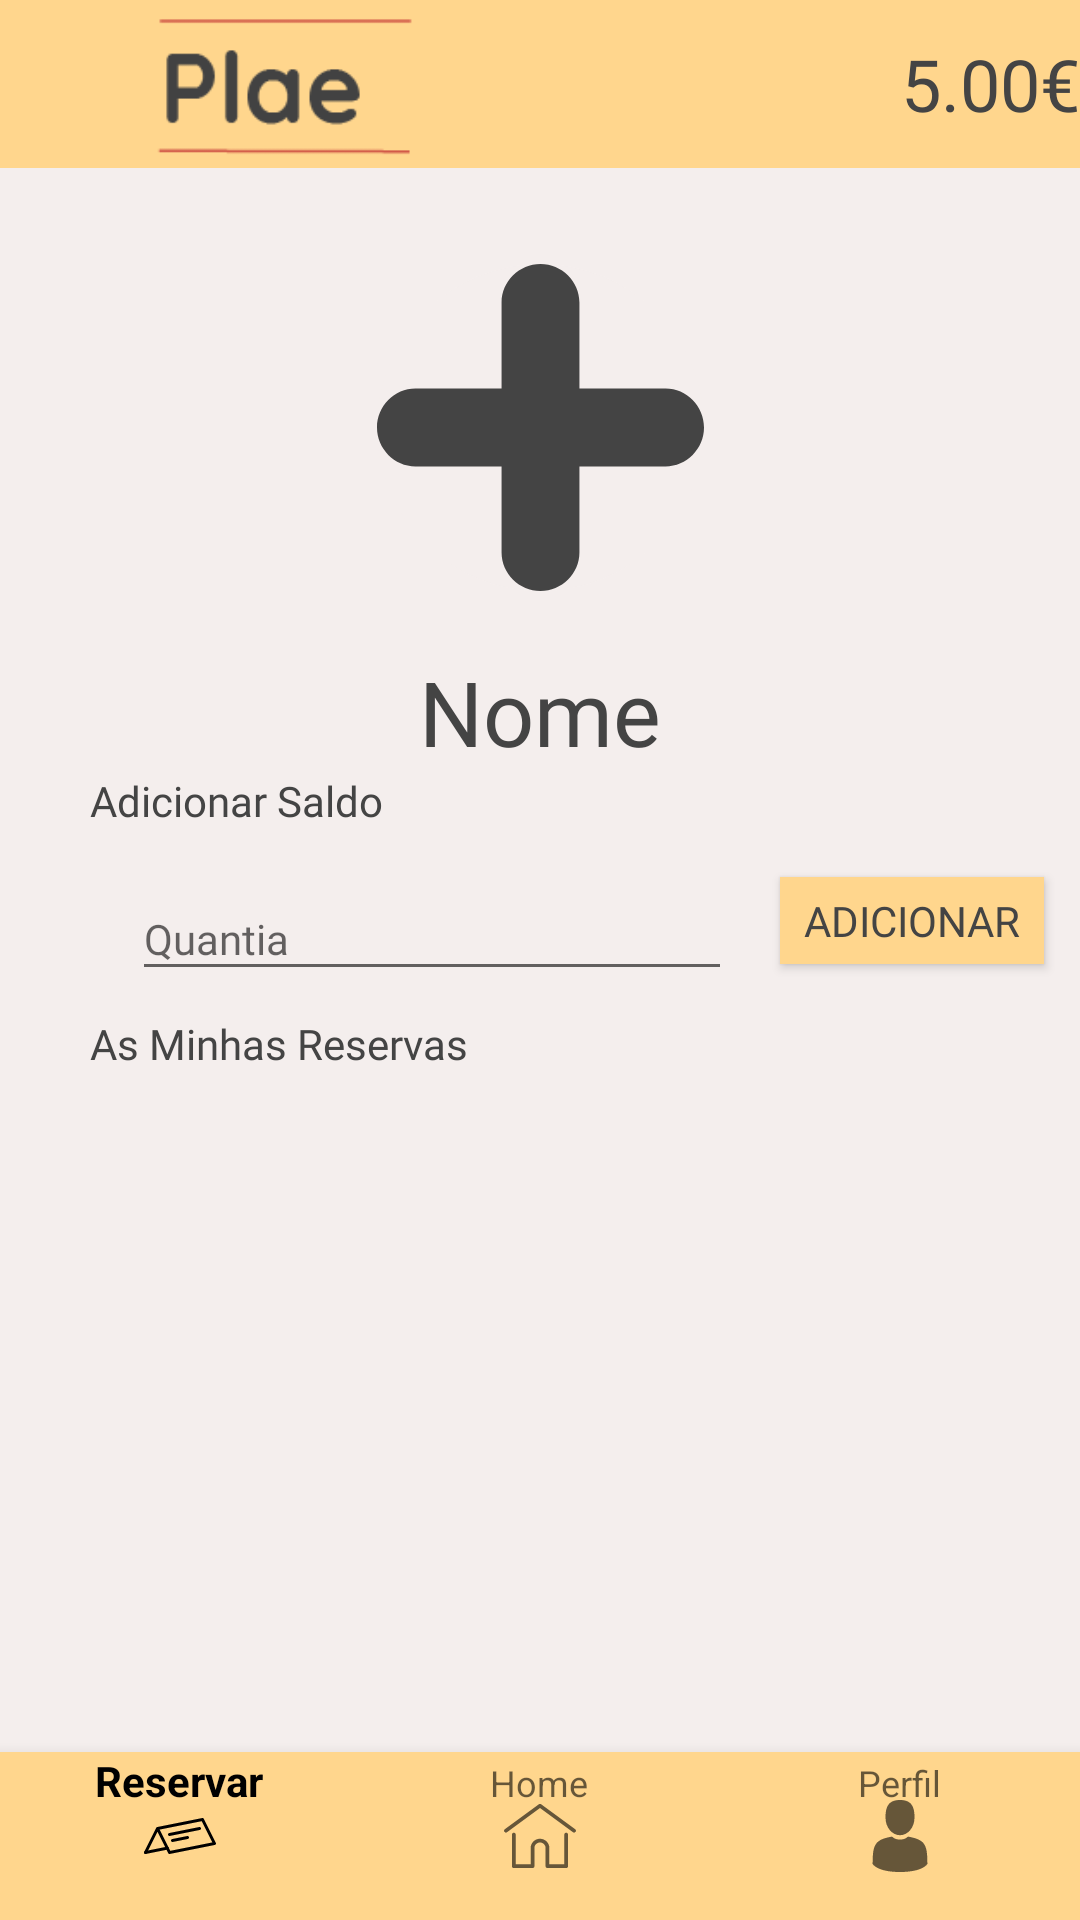

Icons on this 1080*1920 Android screen, each with the point to tap as [x,y]:
add: [540,427]
